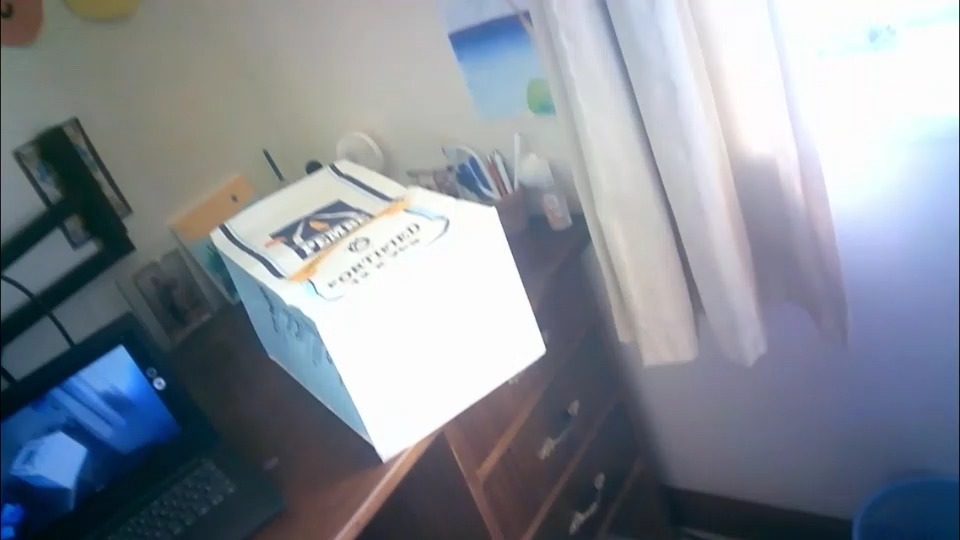wheat_flour_blue_label: (208, 161, 546, 457)
